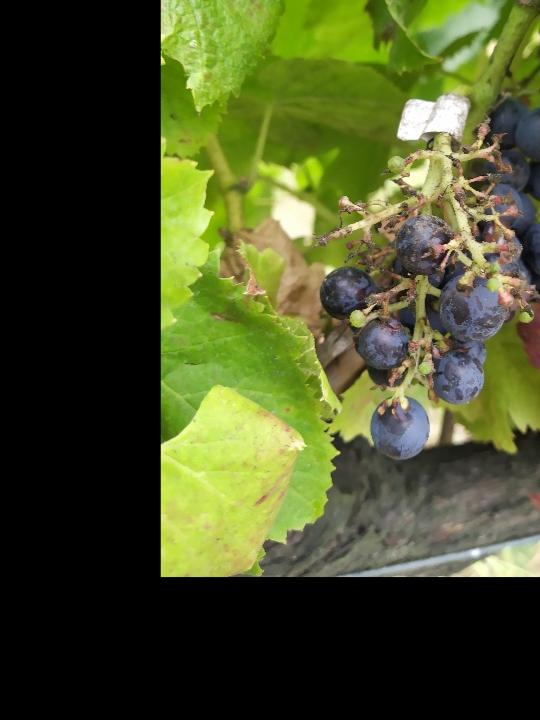grape: (313, 120, 540, 464)
